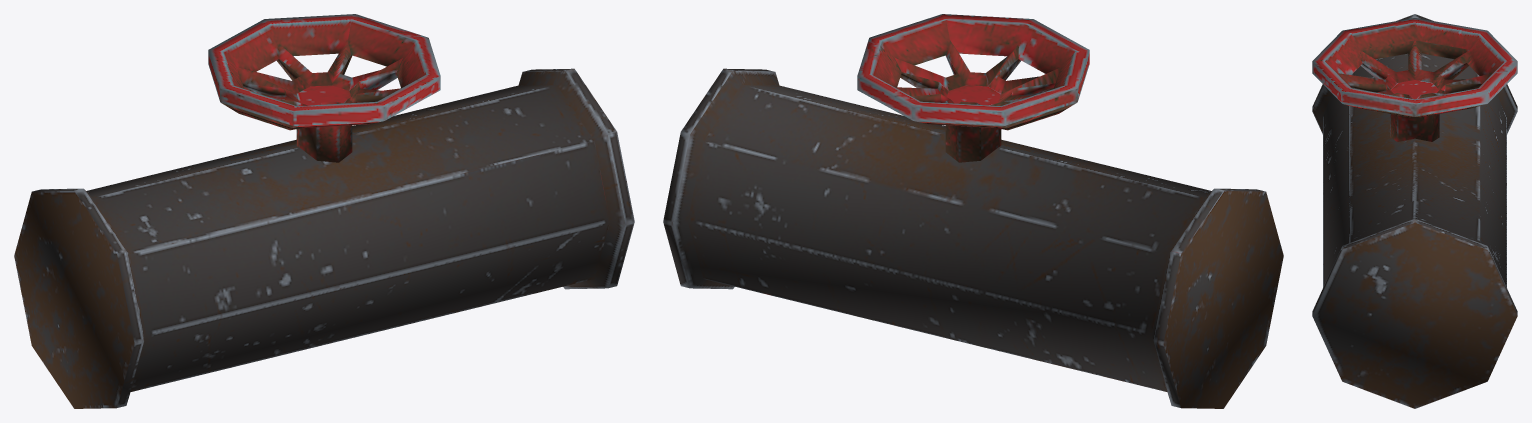
Rendered from pipe_valve.gltf.
3 renders of one model, left to right at view 1: azimuth 30°, elevation 25°; view 2: azimuth 150°, elevation 25°; view 3: azimuth 270°, elevation 25°, orthographic. The views are drawn at different scales.
Parts seen in each view (by area): view 1: Cylinder.008; view 2: Cylinder.008; view 3: Cylinder.008.
Part boxes in pixels (x1,y1,x2,y2): Cylinder.008: (14,14,634,408); Cylinder.008: (663,14,1283,408); Cylinder.008: (1312,14,1517,408).
Bounding box in the file's own units: 6 × 3.26 × 2.5.
Materials: 1 (1 with a texture image).
